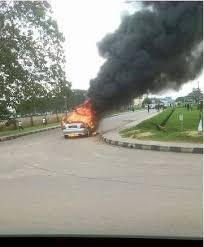fire: (60, 99, 98, 130)
